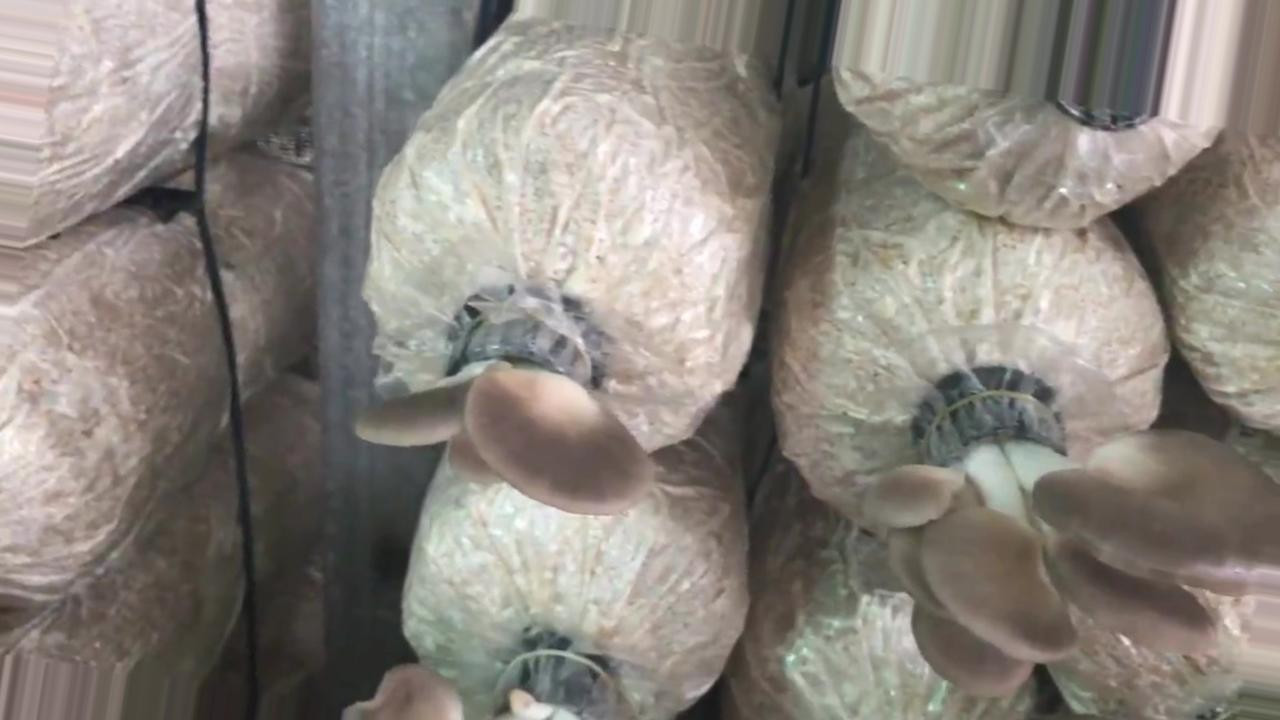nam: (878, 371, 1280, 696), (357, 271, 653, 523)
